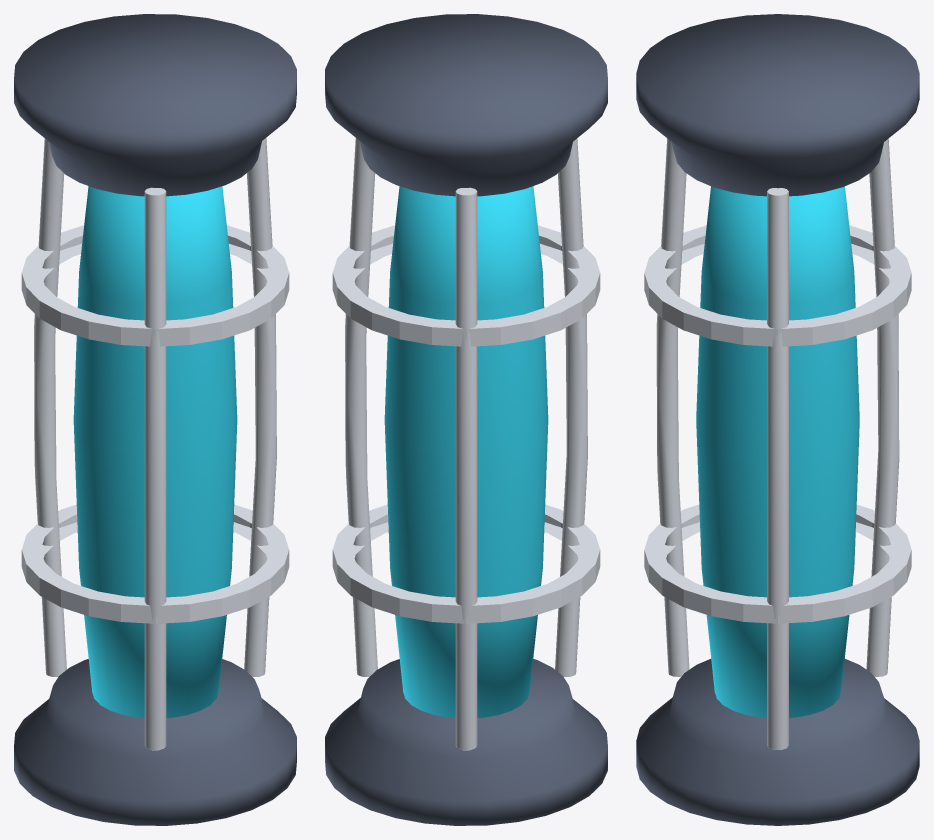
Rendered from reactor.glb.
3 views of the same model, side by side, from view 1: azimuth 30°, elevation 25°; view 2: azimuth 150°, elevation 25°; view 3: azimuth 270°, elevation 25° (orthographic).
Parts seen in each view (by area): view 1: reactor; view 2: reactor; view 3: reactor.
Part boxes in pixels (x1,y1,x2,y2): reactor: (14, 14, 296, 825); reactor: (325, 14, 607, 825); reactor: (636, 14, 919, 825).
Size of the model in its own units: 5.2 by 14 by 5.2.
